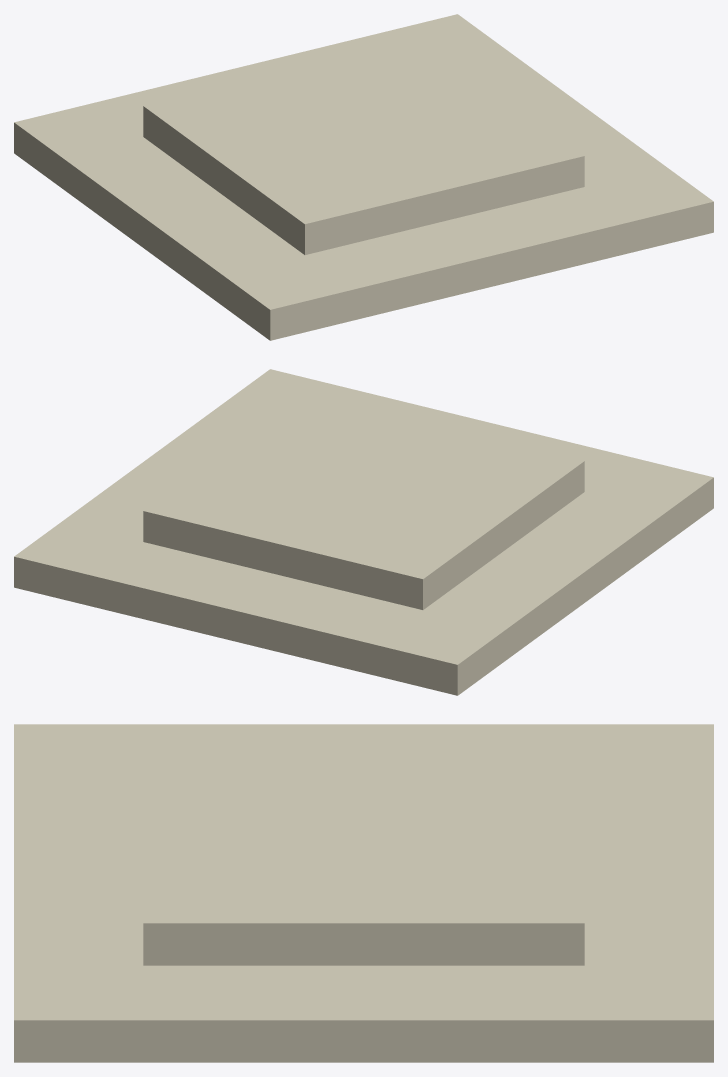
Rendered from Roof 55.FBX.
3 renders of one model, top to bottom at view 1: azimuth 30°, elevation 25°; view 2: azimuth 150°, elevation 25°; view 3: azimuth 270°, elevation 25°, orthographic. The views are drawn at different scales.
Visible parts, largest first — view 1: Group265; view 2: Group265; view 3: Group265.
Boxes of the visible parts, x1,y1,x2,y2 form: Group265: (14,14,713,340); Group265: (14,369,713,695); Group265: (14,724,713,1062).
Bounding box in the file's own units: 29.53 × 3.94 × 29.53.
